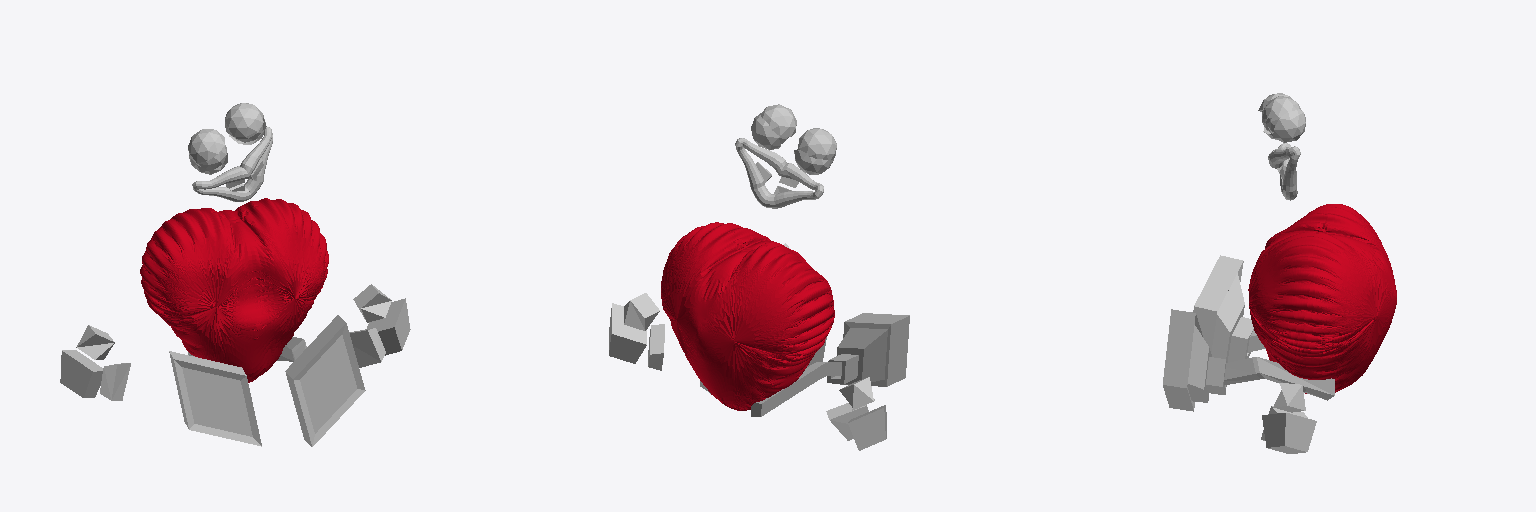
File: homeress.obj
The picture shows the model from 3 angles: view 1: azimuth 30°, elevation 25°; view 2: azimuth 150°, elevation 25°; view 3: azimuth 270°, elevation 25°; orthographic projection.
Visible parts, largest first — view 1: Circle.001, Cube.055, Cube.054, Cube.053, Cube.052, BezierCircle, Icosphere.011, Icosphere.012; view 2: Circle.001, Cube.054, Cube.053, BezierCircle, Cube.052, Icosphere.012, Icosphere.011; view 3: Circle.001, Cube.055, Cube.054, Cube.053, Icosphere.012, BezierCircle.
Boxes of the visible parts, x1,y1,x2,y2 form: Circle.001: [140, 198, 328, 382]; Cube.055: [277, 315, 365, 446]; Cube.054: [169, 351, 261, 446]; Cube.053: [349, 284, 410, 367]; Cube.052: [60, 325, 130, 400]; BezierCircle: [192, 127, 272, 201]; Icosphere.011: [188, 129, 227, 174]; Icosphere.012: [225, 103, 266, 144]; Circle.001: [661, 222, 834, 410]; Cube.054: [751, 313, 909, 416]; Cube.053: [609, 293, 664, 370]; BezierCircle: [735, 138, 823, 208]; Cube.052: [826, 377, 886, 450]; Icosphere.012: [751, 104, 796, 149]; Icosphere.011: [794, 128, 836, 174]; Circle.001: [1248, 204, 1396, 393]; Cube.055: [1163, 309, 1334, 411]; Cube.054: [1193, 255, 1265, 362]; Cube.053: [1261, 383, 1316, 453]; Icosphere.012: [1262, 96, 1305, 142]; BezierCircle: [1268, 143, 1300, 200].
Size of the model in its own units: 1.17 by 1.09 by 0.7588.